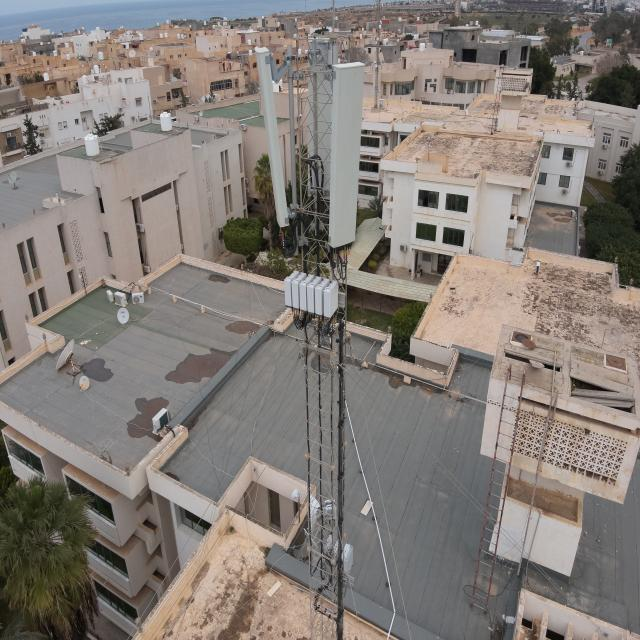antenna: (327, 61, 367, 249), (254, 45, 290, 228), (305, 36, 335, 202)
lighnig-rad: (330, 1, 337, 38)
microware-dish: (306, 493, 338, 531)
power-box: (318, 532, 355, 577)
radio-unit: (281, 268, 344, 322)
